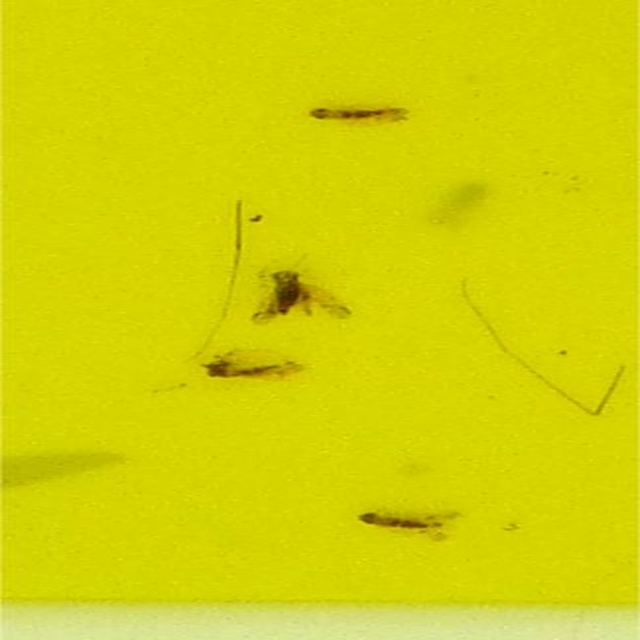Hemiptera: (260, 266, 327, 317), (347, 507, 443, 536), (303, 104, 412, 127)
Nematocera: (197, 356, 295, 385)
